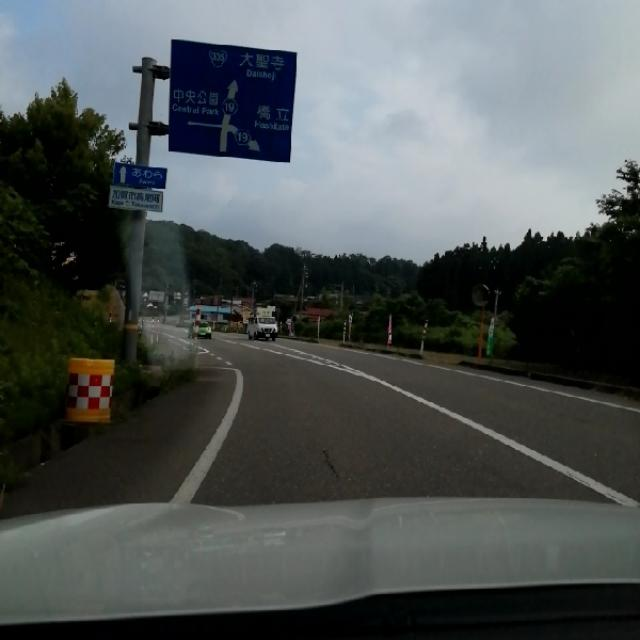pothole: (311, 431, 364, 493)
